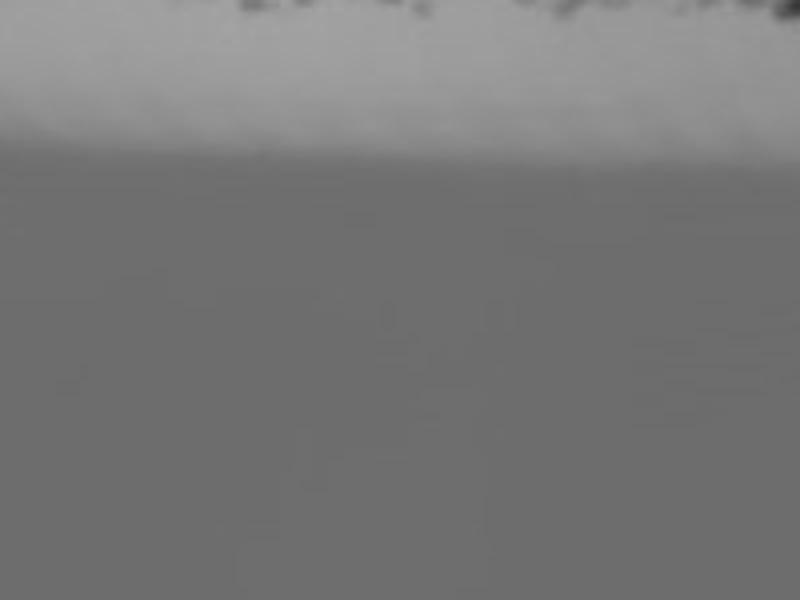defect: (768, 1, 799, 26), (553, 1, 584, 24), (232, 1, 278, 13), (414, 1, 437, 23), (289, 1, 318, 10)
